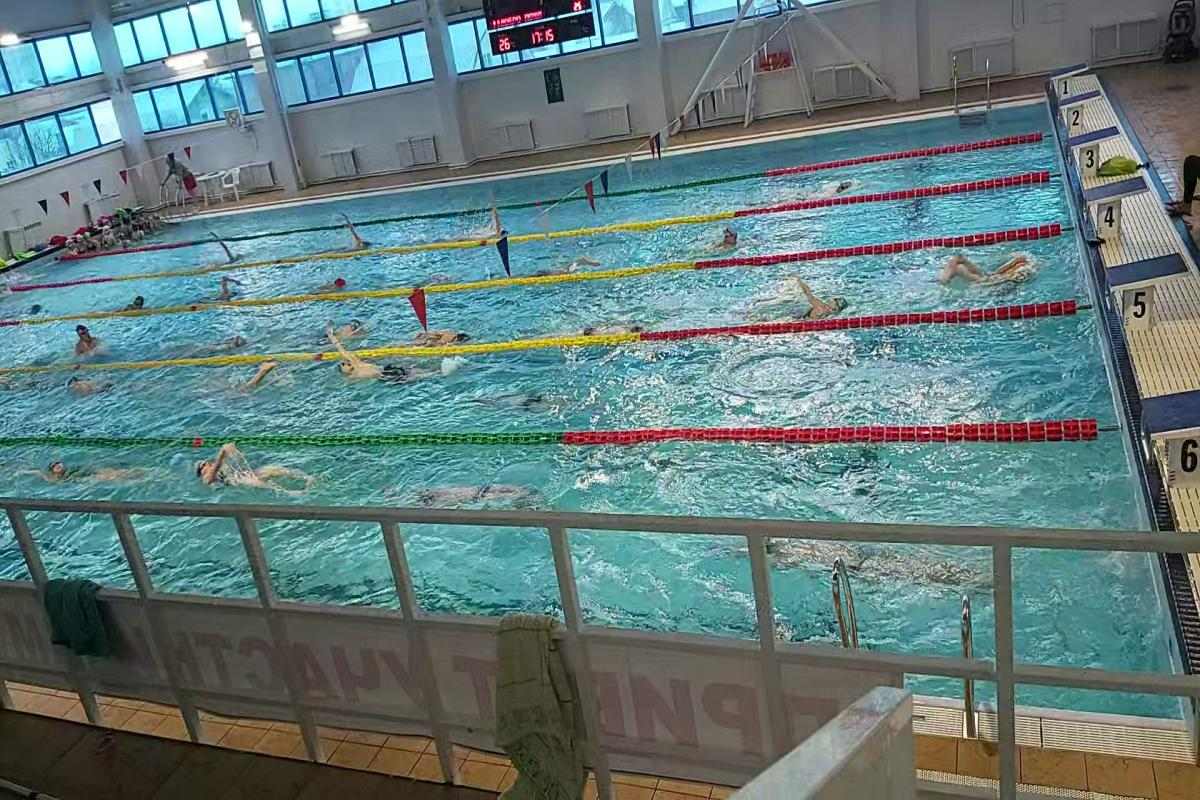swimmer: (185, 445, 313, 498), (323, 335, 425, 392), (764, 263, 852, 324), (14, 452, 157, 488), (390, 473, 540, 507), (928, 250, 1053, 290), (454, 199, 517, 237), (799, 170, 873, 200), (59, 371, 127, 402), (67, 323, 121, 356), (556, 314, 649, 332), (334, 210, 377, 248), (703, 223, 759, 252), (414, 315, 471, 343), (540, 253, 604, 274), (189, 333, 255, 351), (215, 231, 247, 266), (209, 276, 249, 302), (322, 315, 369, 337), (121, 297, 148, 310)
